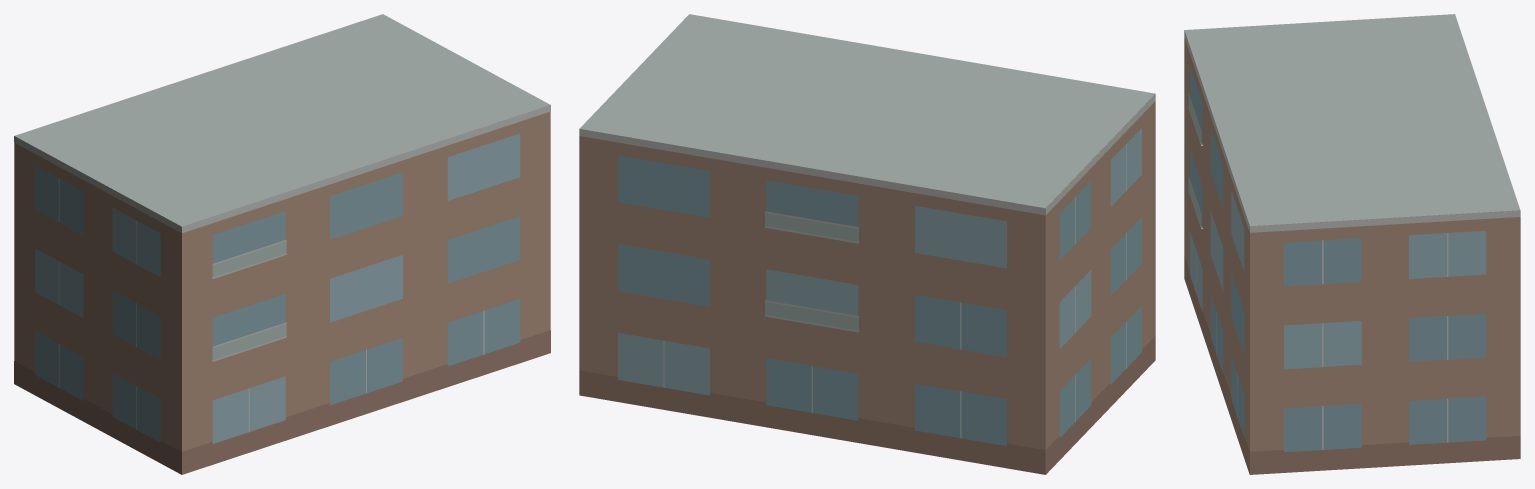
The model's file is survey-upis-33004747.glb.
The picture shows the model from 3 angles, left to right: view 1: azimuth 30°, elevation 25°; view 2: azimuth 150°, elevation 25°; view 3: azimuth 270°, elevation 25°; orthographic projection. The views are drawn at different scales.
Visible parts, largest first — view 1: survey-upis-33004747.tmp; view 2: survey-upis-33004747.tmp; view 3: survey-upis-33004747.tmp.
Part boxes in pixels (x1=…): survey-upis-33004747.tmp: x1=14, y1=14, x2=550, y2=474; survey-upis-33004747.tmp: x1=579, y1=14, x2=1155, y2=474; survey-upis-33004747.tmp: x1=1184, y1=14, x2=1520, y2=474.
Bounding box in the file's own units: 16.76 × 9.15 × 11.22.
